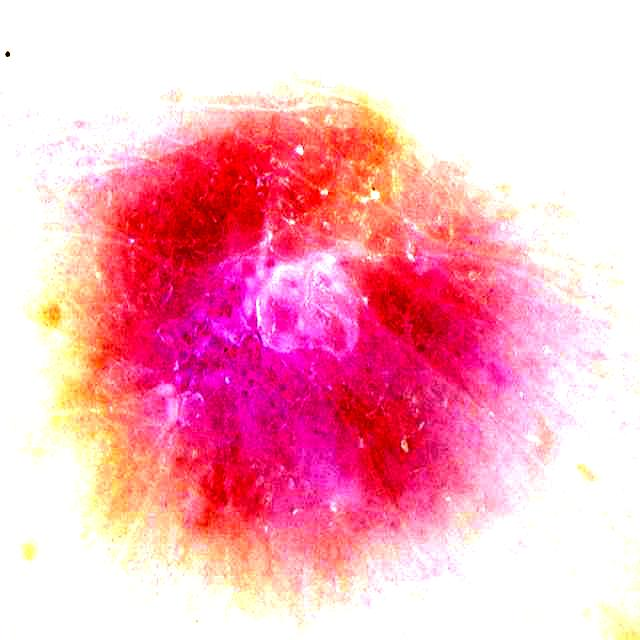DF: (103, 101, 579, 546)
